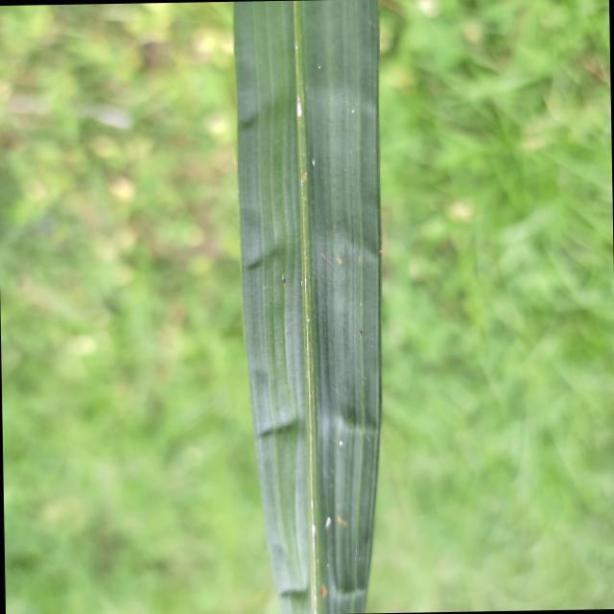Boron: (232, 0, 384, 614)
